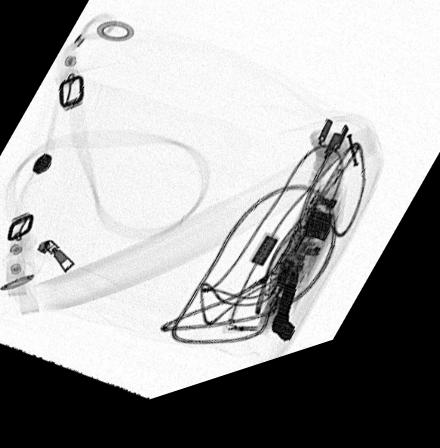Gun: (269, 302, 300, 361)
